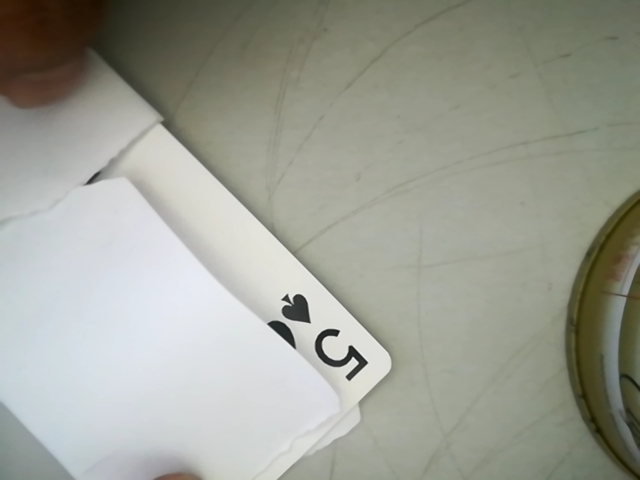ht 5: (255, 282, 372, 382)
